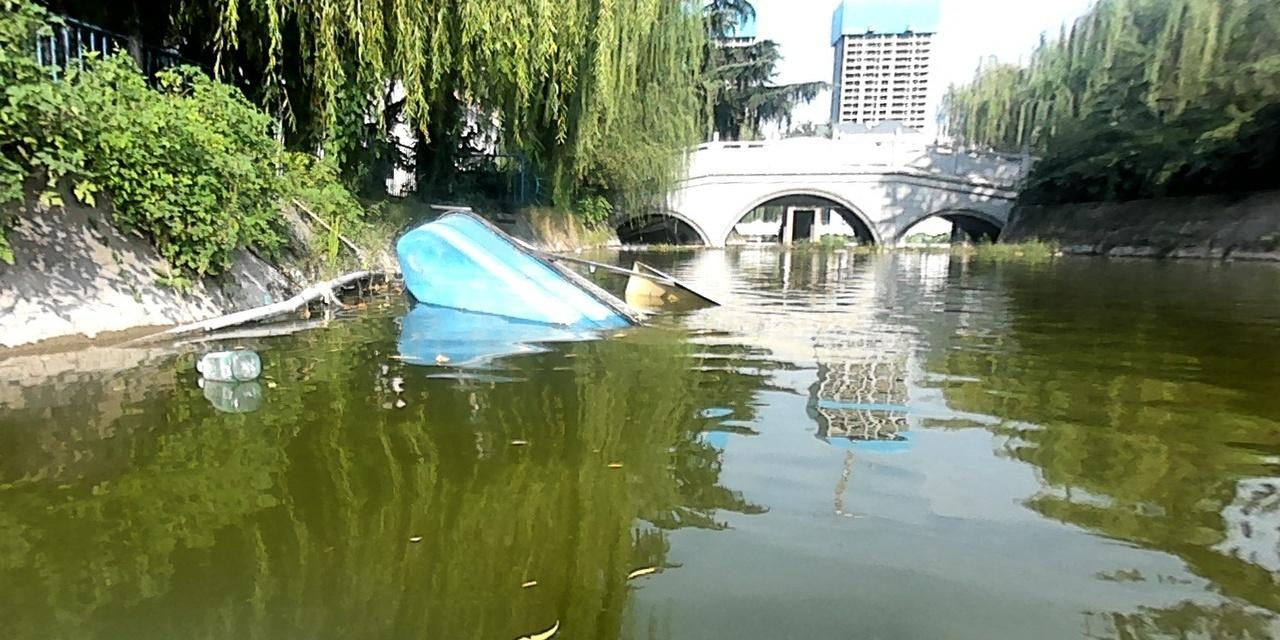bottle: (195, 348, 263, 383)
